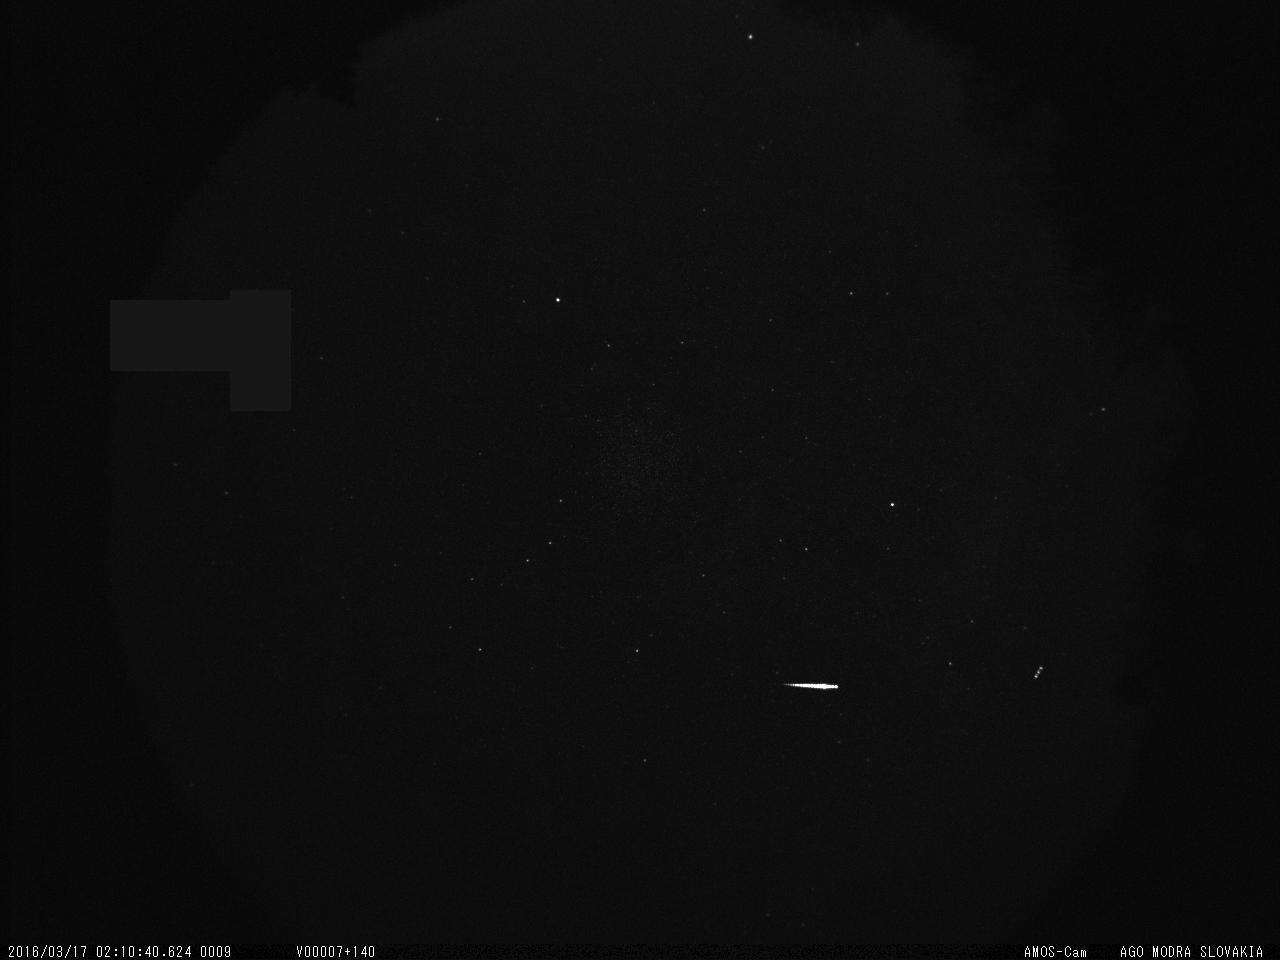meteor: (775, 678, 844, 696)
satelite: (1030, 658, 1050, 687)
